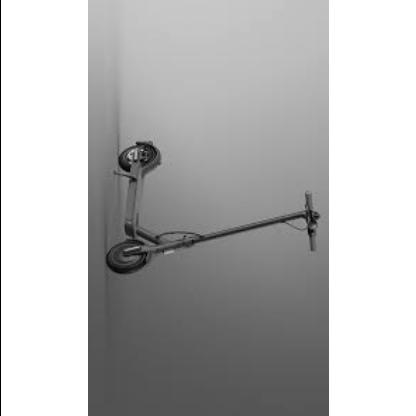bike: (105, 140, 320, 275)
